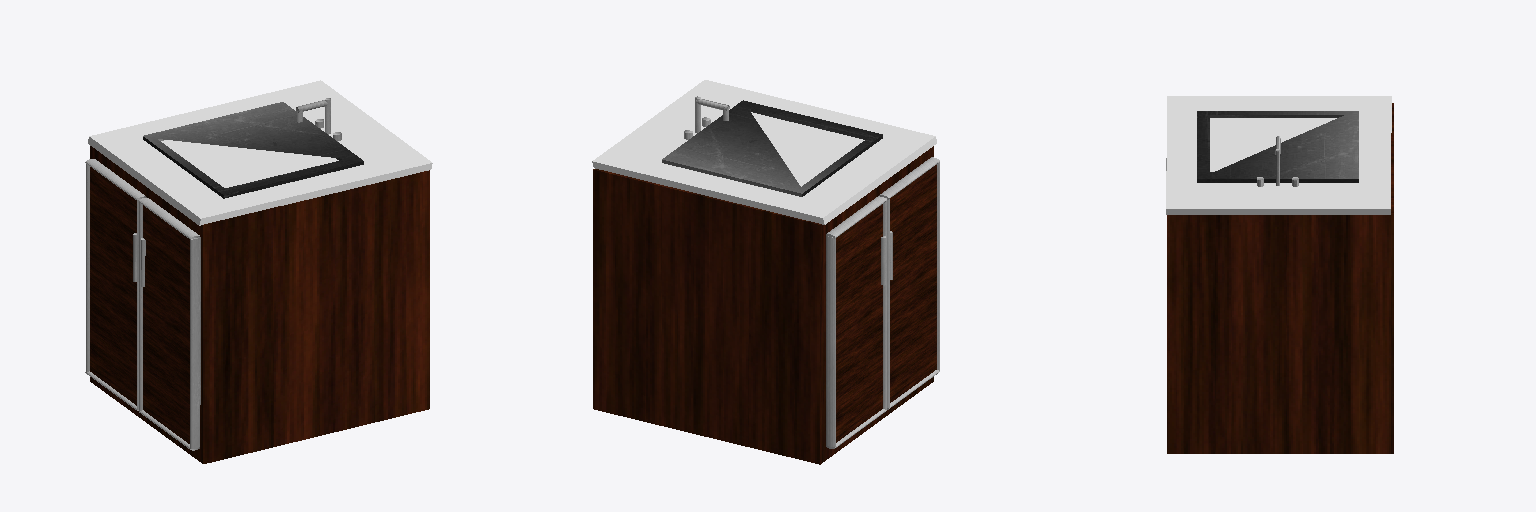
The picture shows the model from 3 angles: view 1: azimuth 30°, elevation 25°; view 2: azimuth 150°, elevation 25°; view 3: azimuth 270°, elevation 25°; orthographic projection.
Visible parts, largest first — view 1: group51_pasted__pCube15, pCube16; view 2: group51_pasted__pCube15, pCube16; view 3: group51_pasted__pCube15, pCube16.
Boxes of the visible parts, box(x1,y1,x2,y2) form: group51_pasted__pCube15: box(85, 80, 432, 463); pCube16: box(143, 102, 363, 198); group51_pasted__pCube15: box(592, 80, 939, 464); pCube16: box(662, 100, 882, 196); group51_pasted__pCube15: box(1166, 96, 1393, 453); pCube16: box(1197, 111, 1358, 182).
Bounding box in the file's own units: 0.582 × 0.6478 × 0.4772.
Materials: 19 (3 with a texture image).